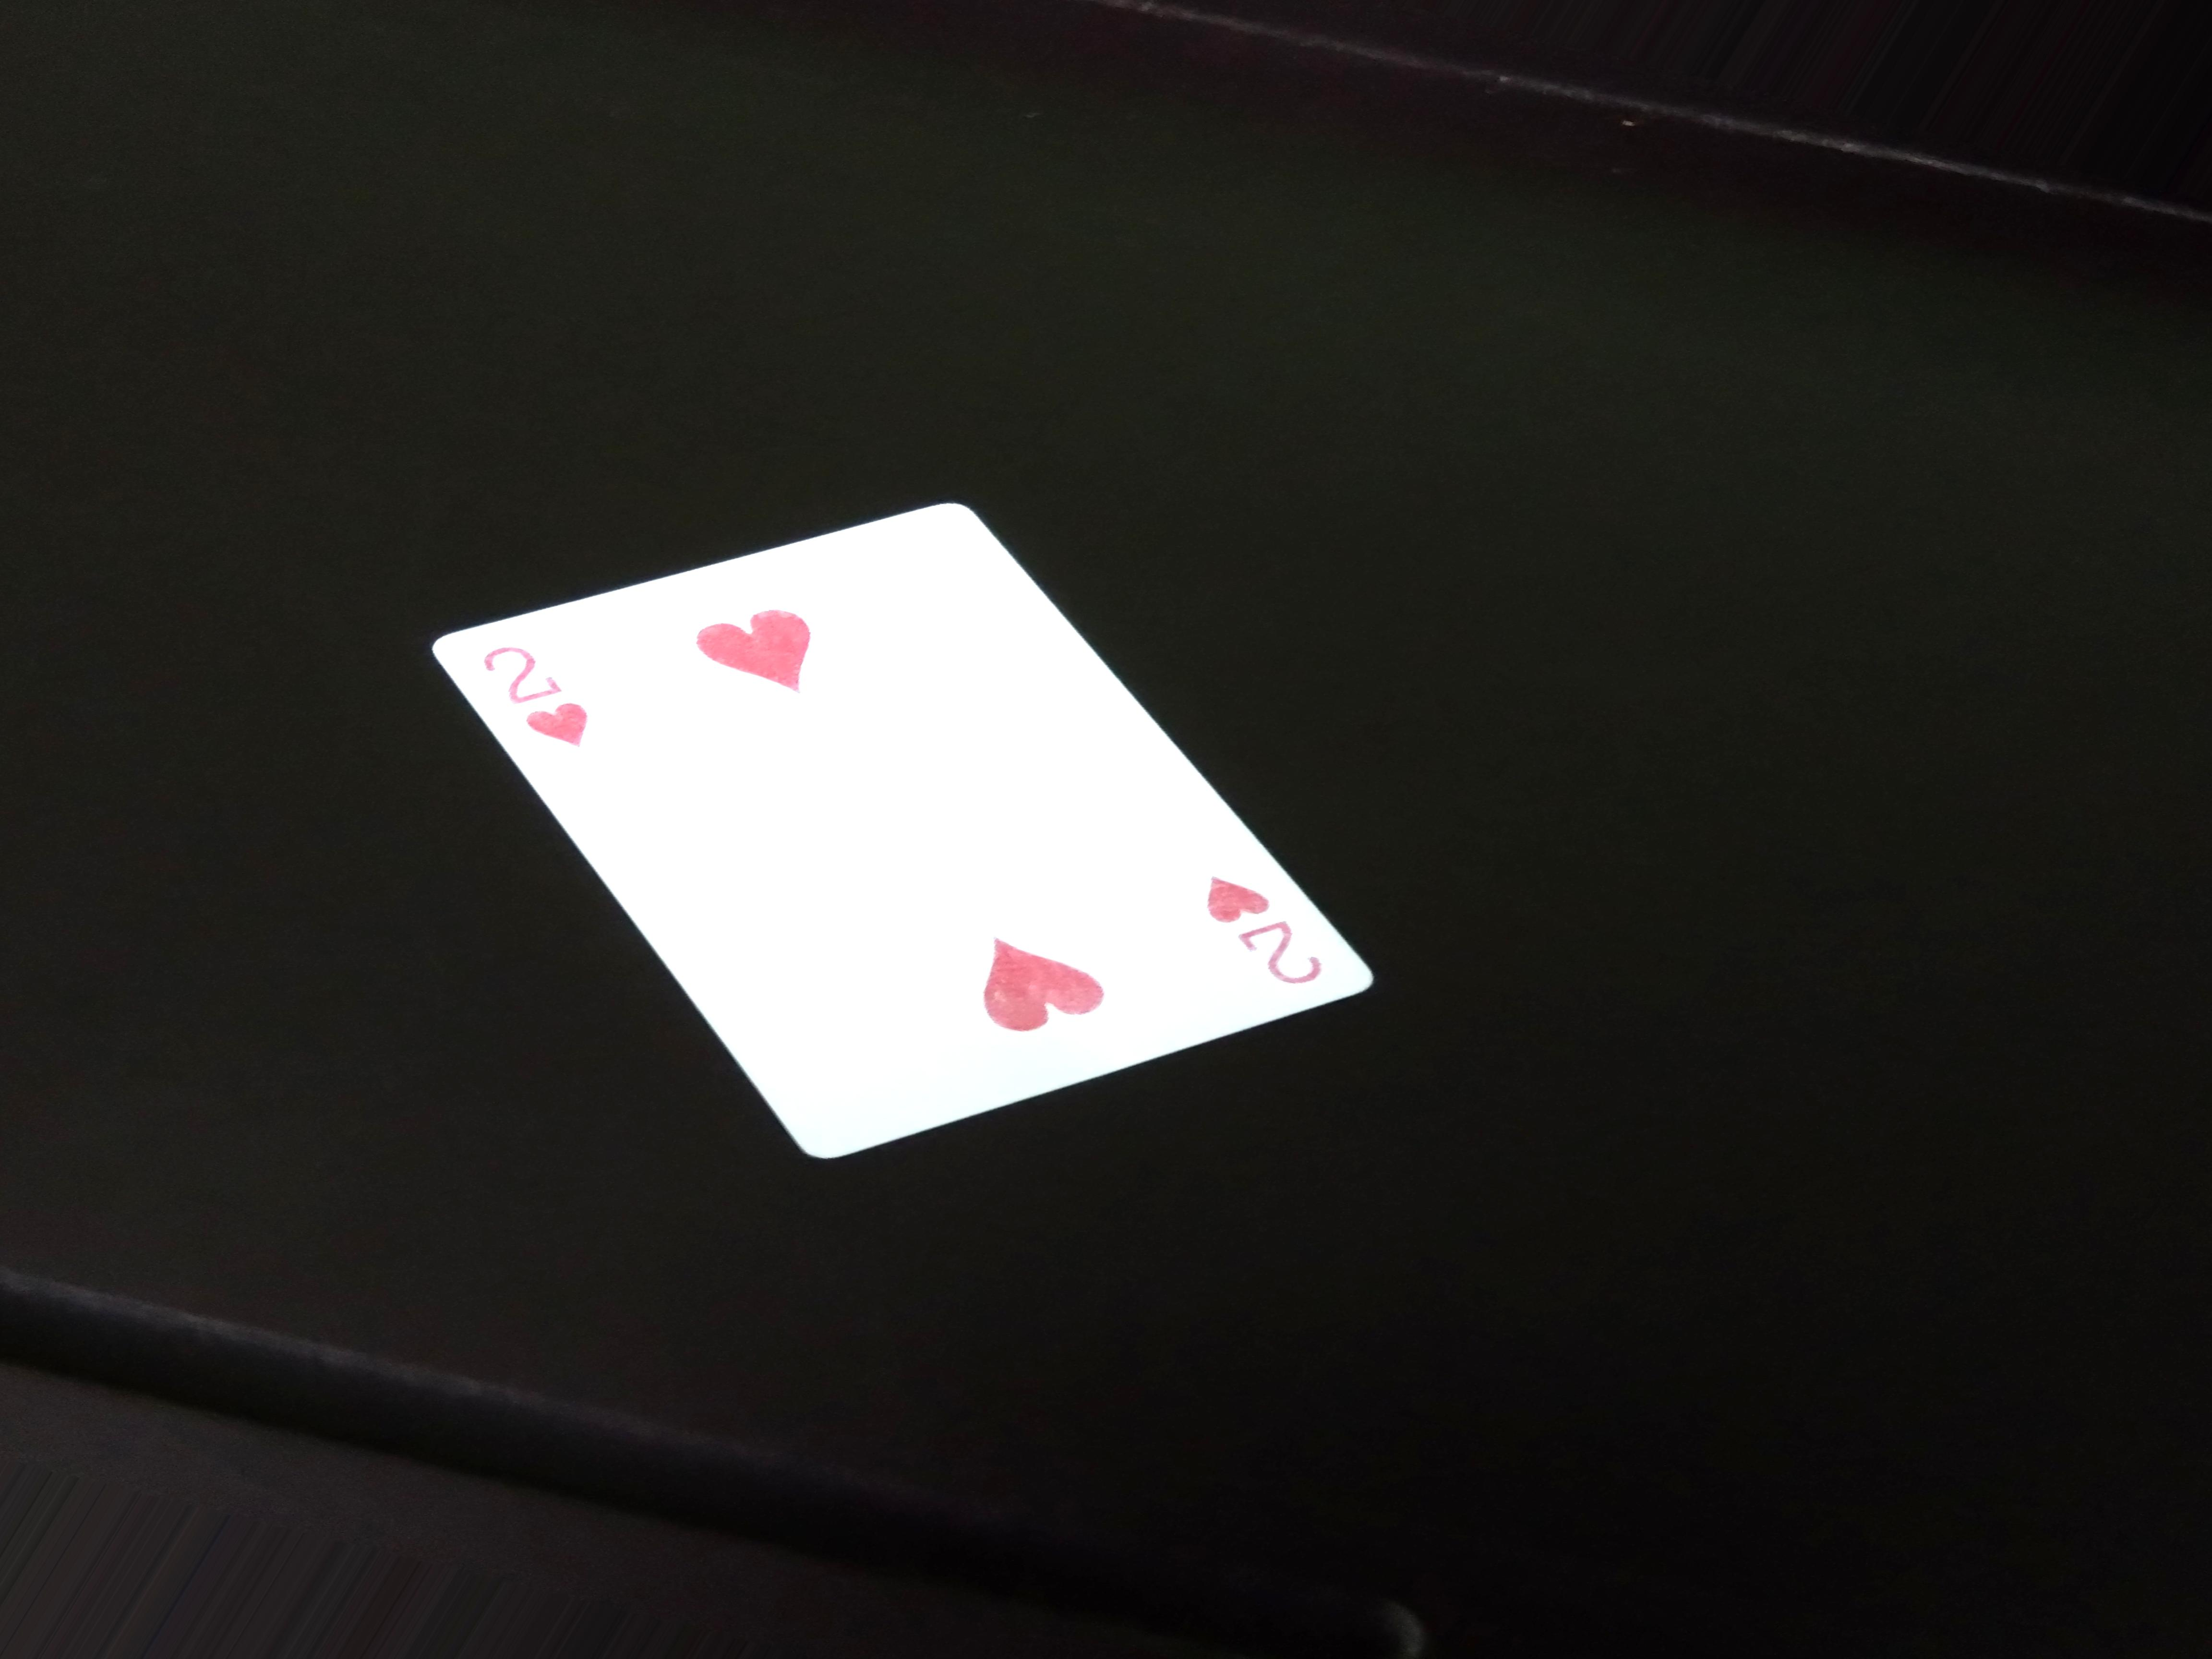2H: (1183, 856, 1376, 1025)
